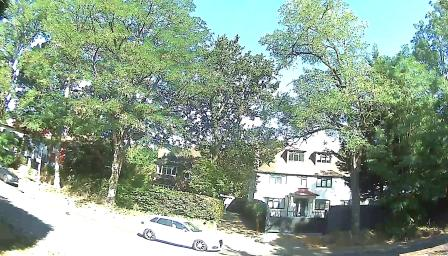Cars: (139, 202, 224, 252), (1, 164, 24, 186)
